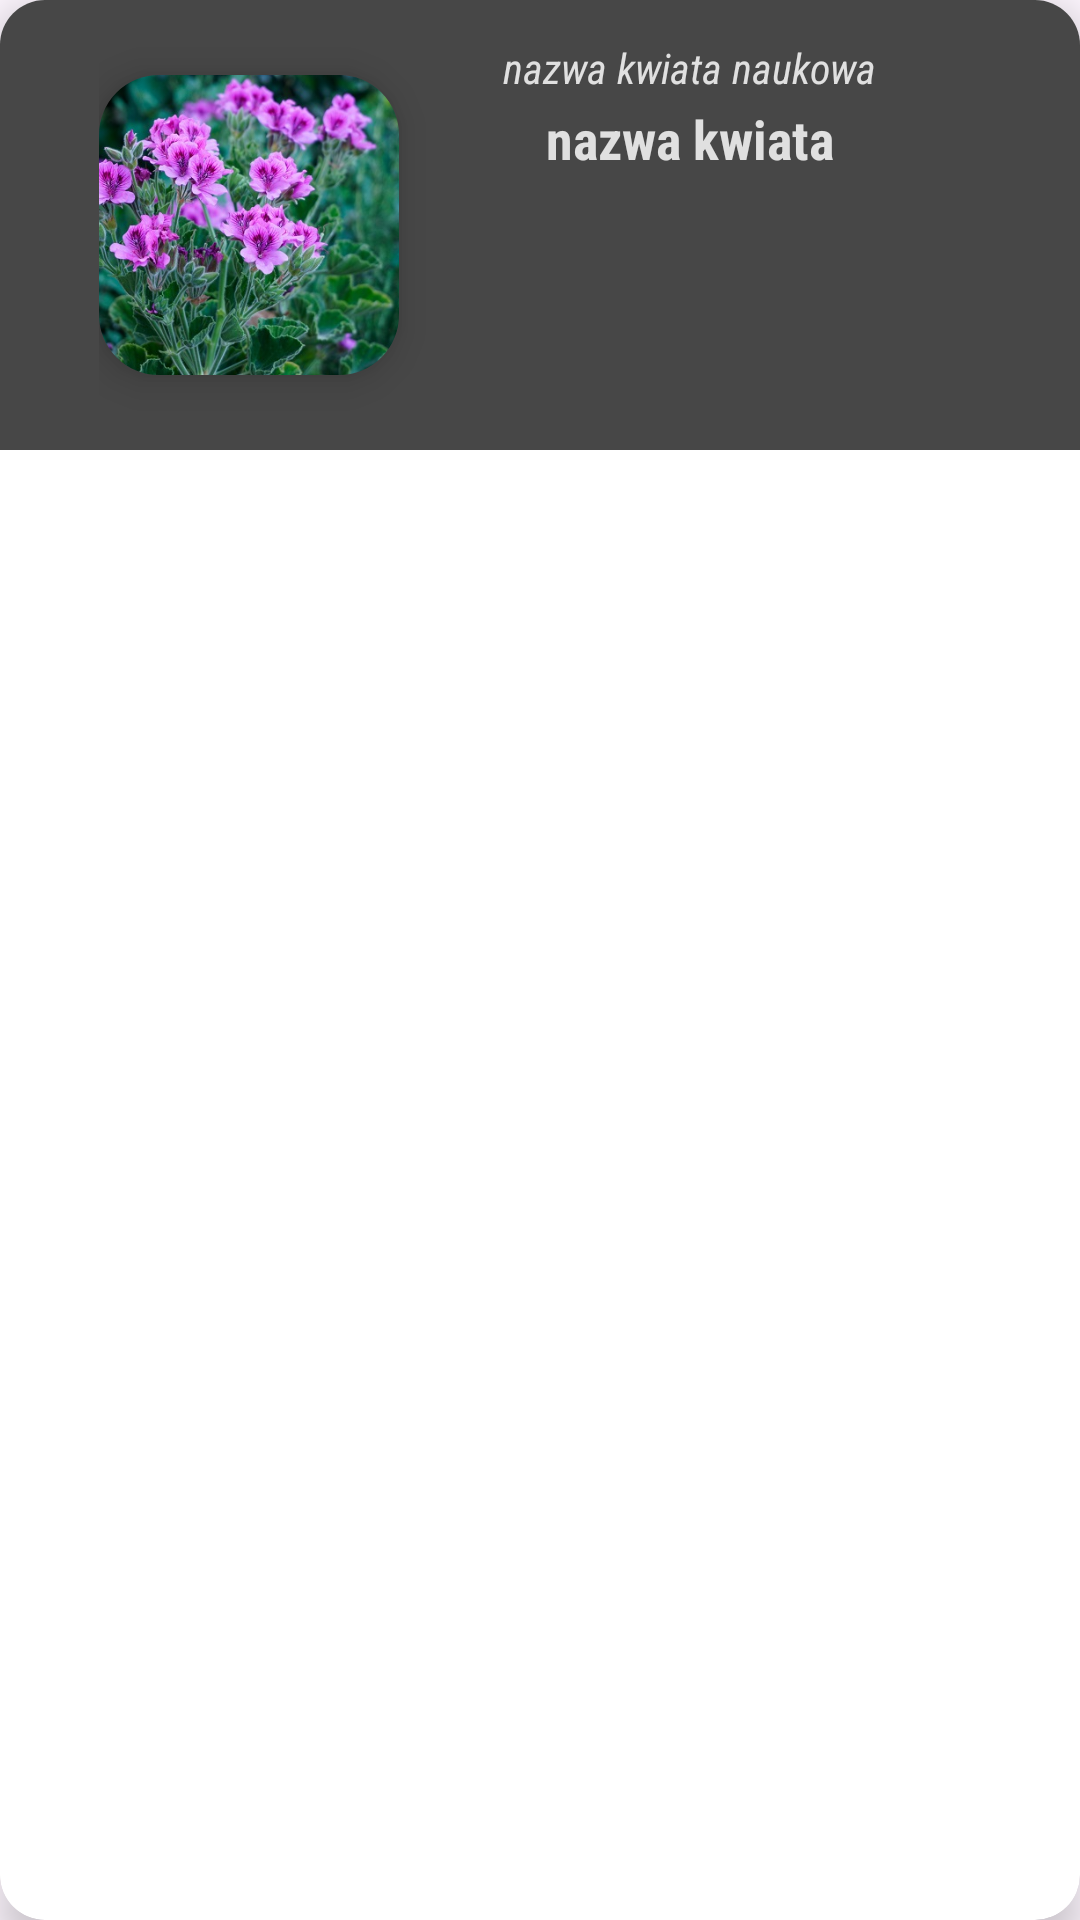

Locate icon controls on the screen. Image size 1080x1920, boxes as detection(x1, y1, x2, y2).
pelargonia: detection(99, 75, 399, 375)
